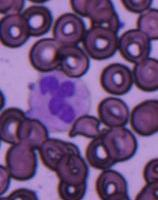N: (26, 70, 90, 132)
